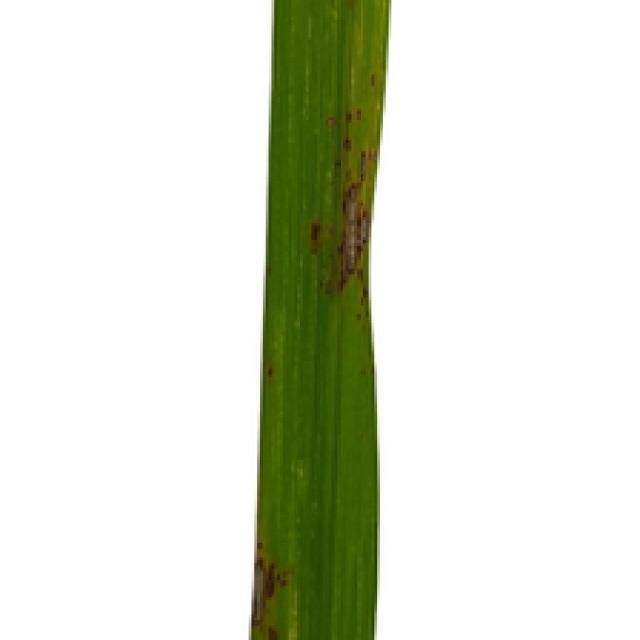Rice___Brown_Spot: (251, 0, 392, 637)
